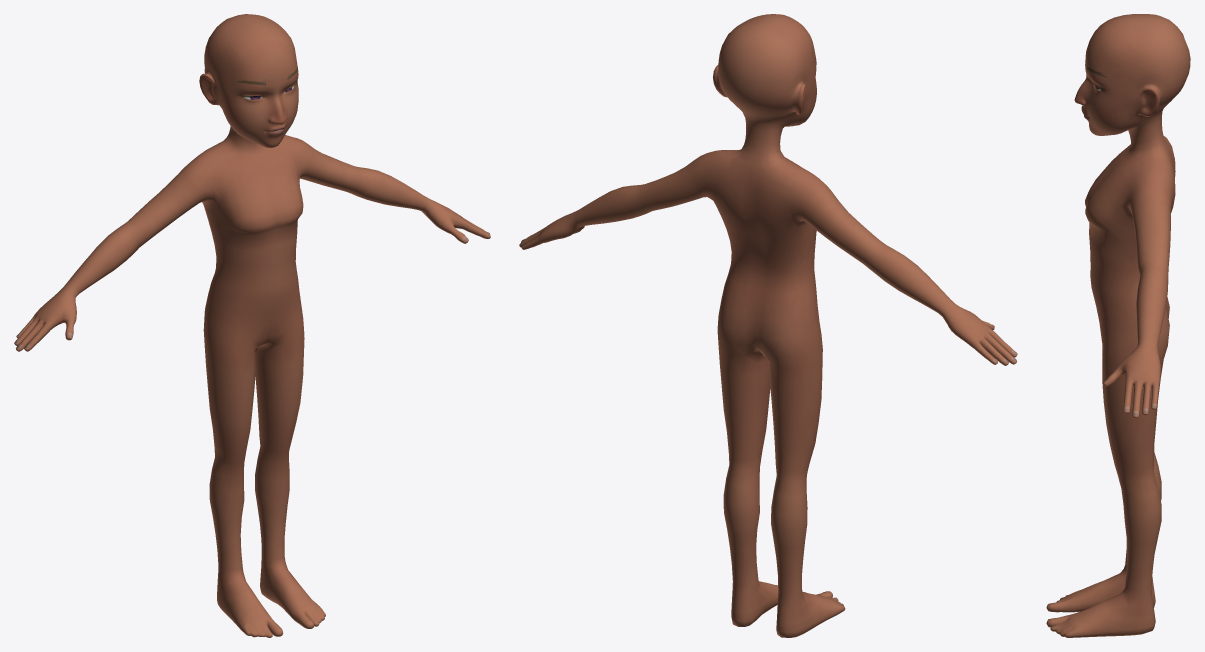
Rendered from frame_0088.glb.
The picture shows the model from 3 angles, left to right: view 1: azimuth 30°, elevation 25°; view 2: azimuth 150°, elevation 25°; view 3: azimuth 270°, elevation 25°; orthographic projection. The views are drawn at different scales.
Parts seen in each view (by area): view 1: frame_0088_head_geo; view 2: frame_0088_head_geo; view 3: frame_0088_head_geo.
Part boxes in pixels (left/top/right/bottom): frame_0088_head_geo: left=14, top=14, right=490, bottom=637; frame_0088_head_geo: left=519, top=14, right=1017, bottom=637; frame_0088_head_geo: left=1046, top=14, right=1190, bottom=637.
Bounding box in the file's own units: 1.28 × 1.5 × 0.3253.
Materials: 3 (3 with a texture image).
